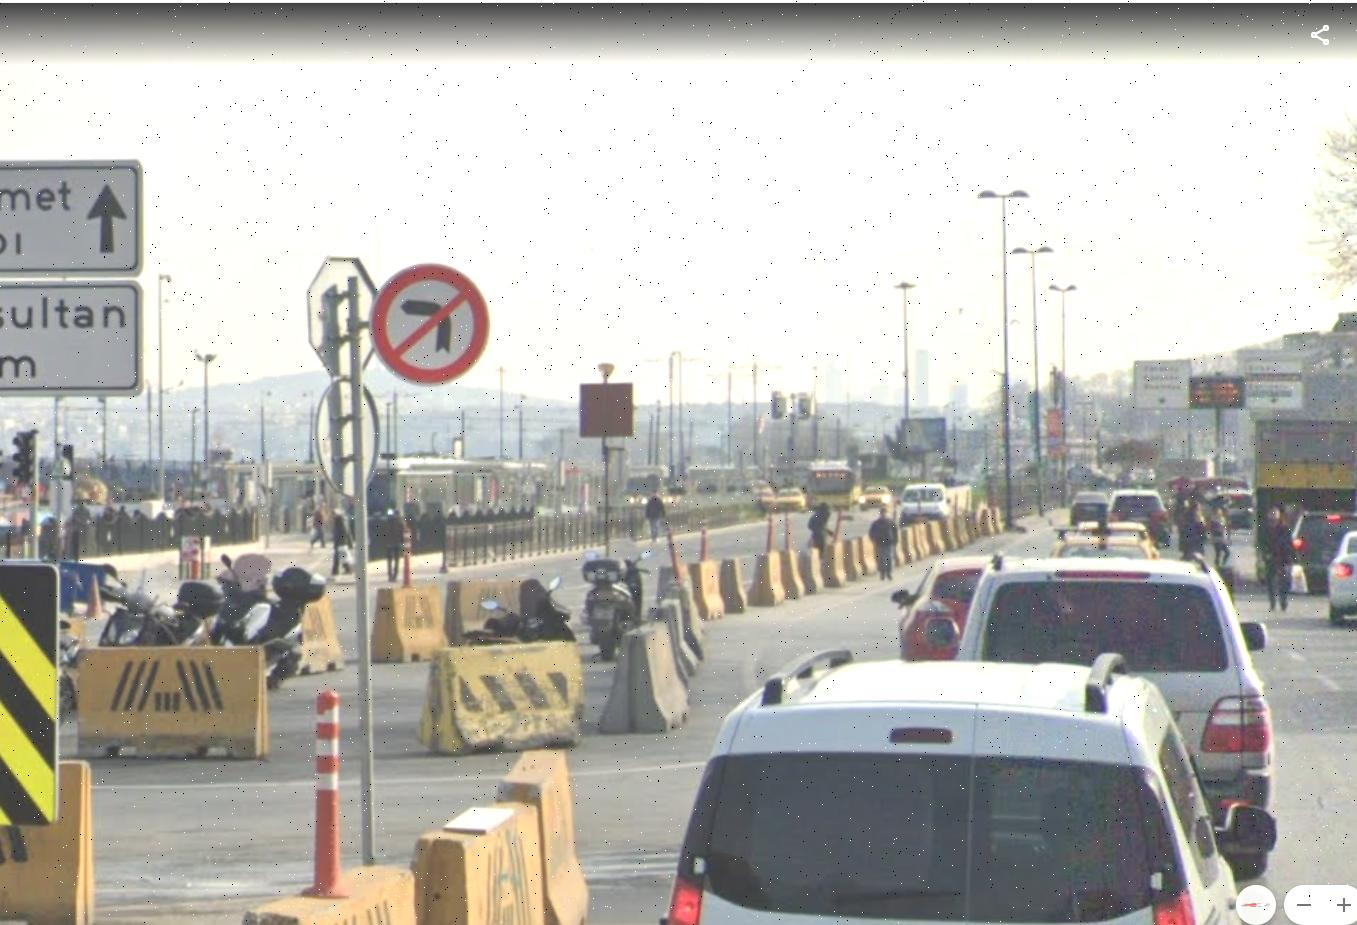leftturnsareforbidden: (372, 272, 484, 374)
